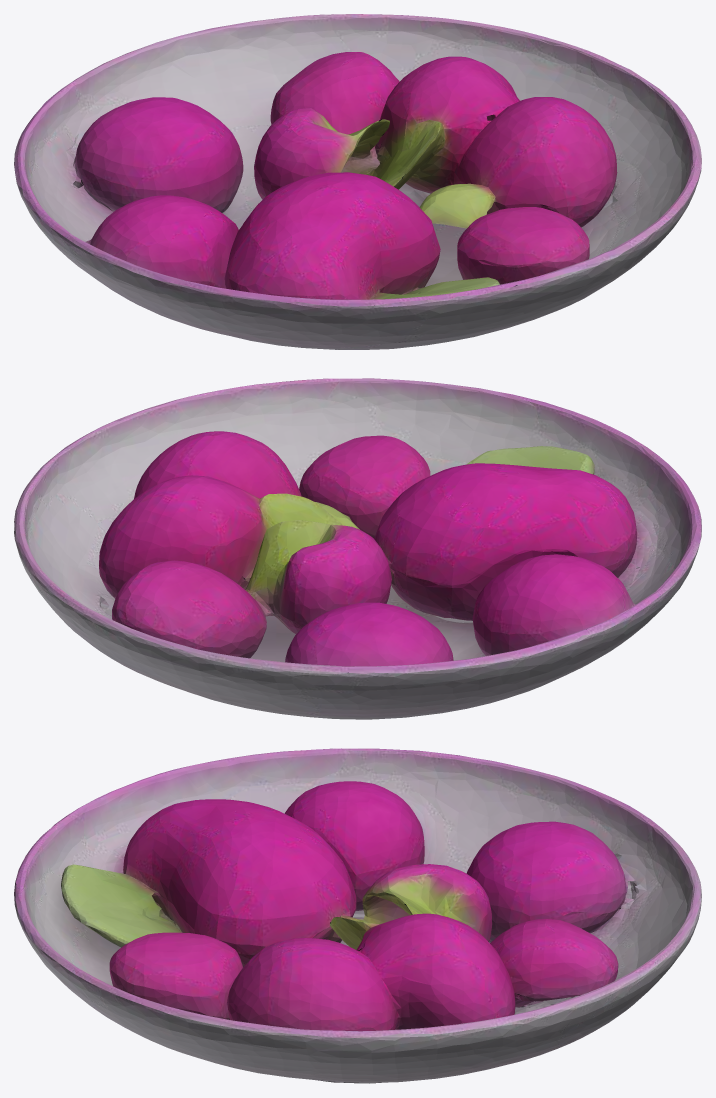
File: bowls_on_small_wooden_table_000.glb
3 renders of one model, top to bottom at view 1: azimuth 30°, elevation 25°; view 2: azimuth 150°, elevation 25°; view 3: azimuth 270°, elevation 25°, orthographic.
Visible parts, largest first — view 1: phase2_final_bowls_on_small_wooden_table_000.obj; view 2: phase2_final_bowls_on_small_wooden_table_000.obj; view 3: phase2_final_bowls_on_small_wooden_table_000.obj.
Part boxes in pixels (x1=…): phase2_final_bowls_on_small_wooden_table_000.obj: x1=14, y1=14, x2=701, y2=349; phase2_final_bowls_on_small_wooden_table_000.obj: x1=14, y1=378, x2=701, y2=719; phase2_final_bowls_on_small_wooden_table_000.obj: x1=14, y1=748, x2=701, y2=1083.
Bounding box in the file's own units: 0.1155 × 0.0313 × 0.1155.
Materials: 1 (1 with a texture image).
